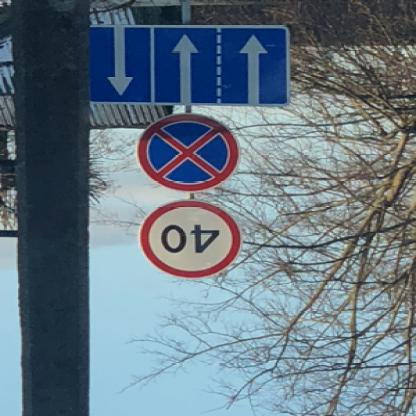speedlimit: (142, 203, 242, 280)
